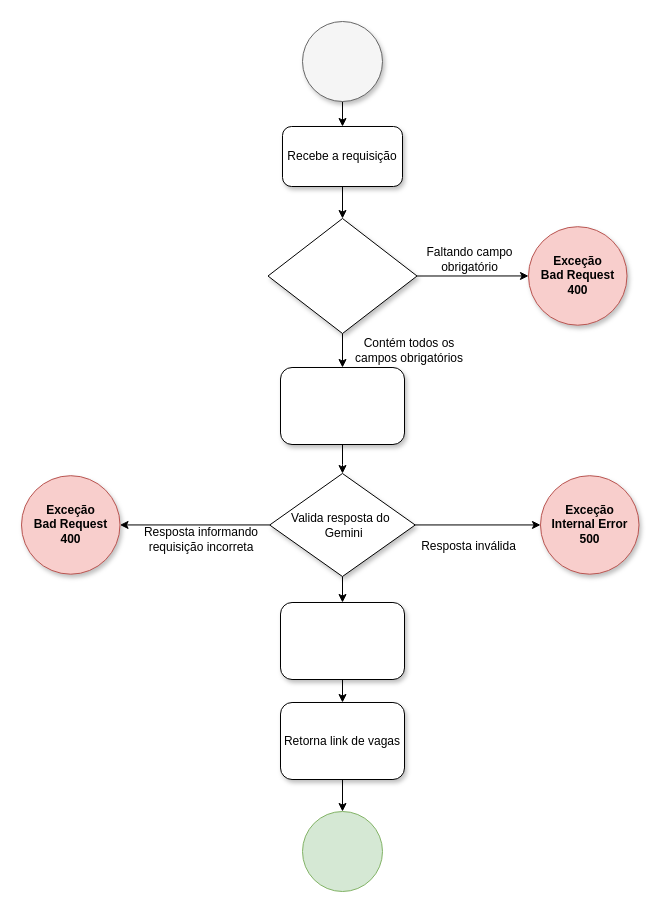
Some shapes in this 663 by 909 pixel diagram are drawn without their labels. Each missing label, with the centre of its shape:
Requisição ao Gemini para solicitar link de vagas: (x=343, y=407)
Salva Log no banco de dados indicando horário, requisição e resposta: (x=343, y=642)
Valida os campos da requisição: (x=343, y=277)
